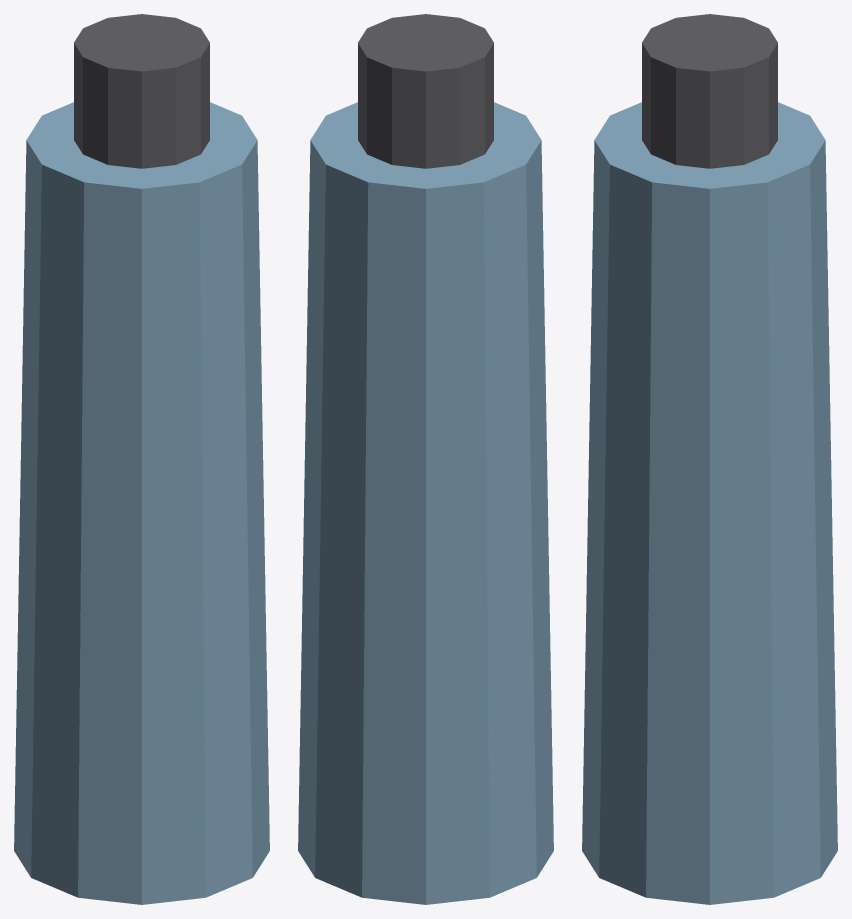
Rendered from waterBottle.glb.
3 renders of one model, left to right at view 1: azimuth 30°, elevation 25°; view 2: azimuth 150°, elevation 25°; view 3: azimuth 270°, elevation 25°, orthographic.
Parts seen in each view (by area): view 1: waterBottle; view 2: waterBottle; view 3: waterBottle.
Boxes of the visible parts, left/top/right/bottom form: waterBottle: left=14, top=14, right=269, bottom=904; waterBottle: left=298, top=14, right=553, bottom=904; waterBottle: left=582, top=14, right=837, bottom=904.
Bounding box in the file's own units: 0.062 × 0.216 × 0.062.
